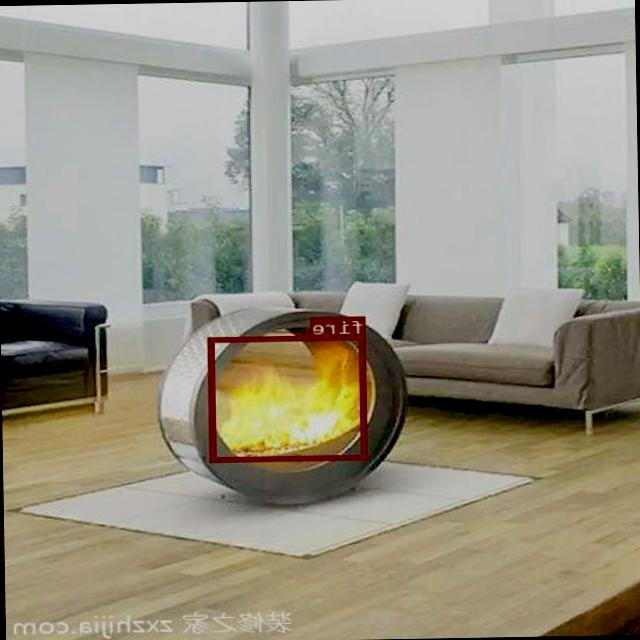fire: (209, 334, 368, 461)
